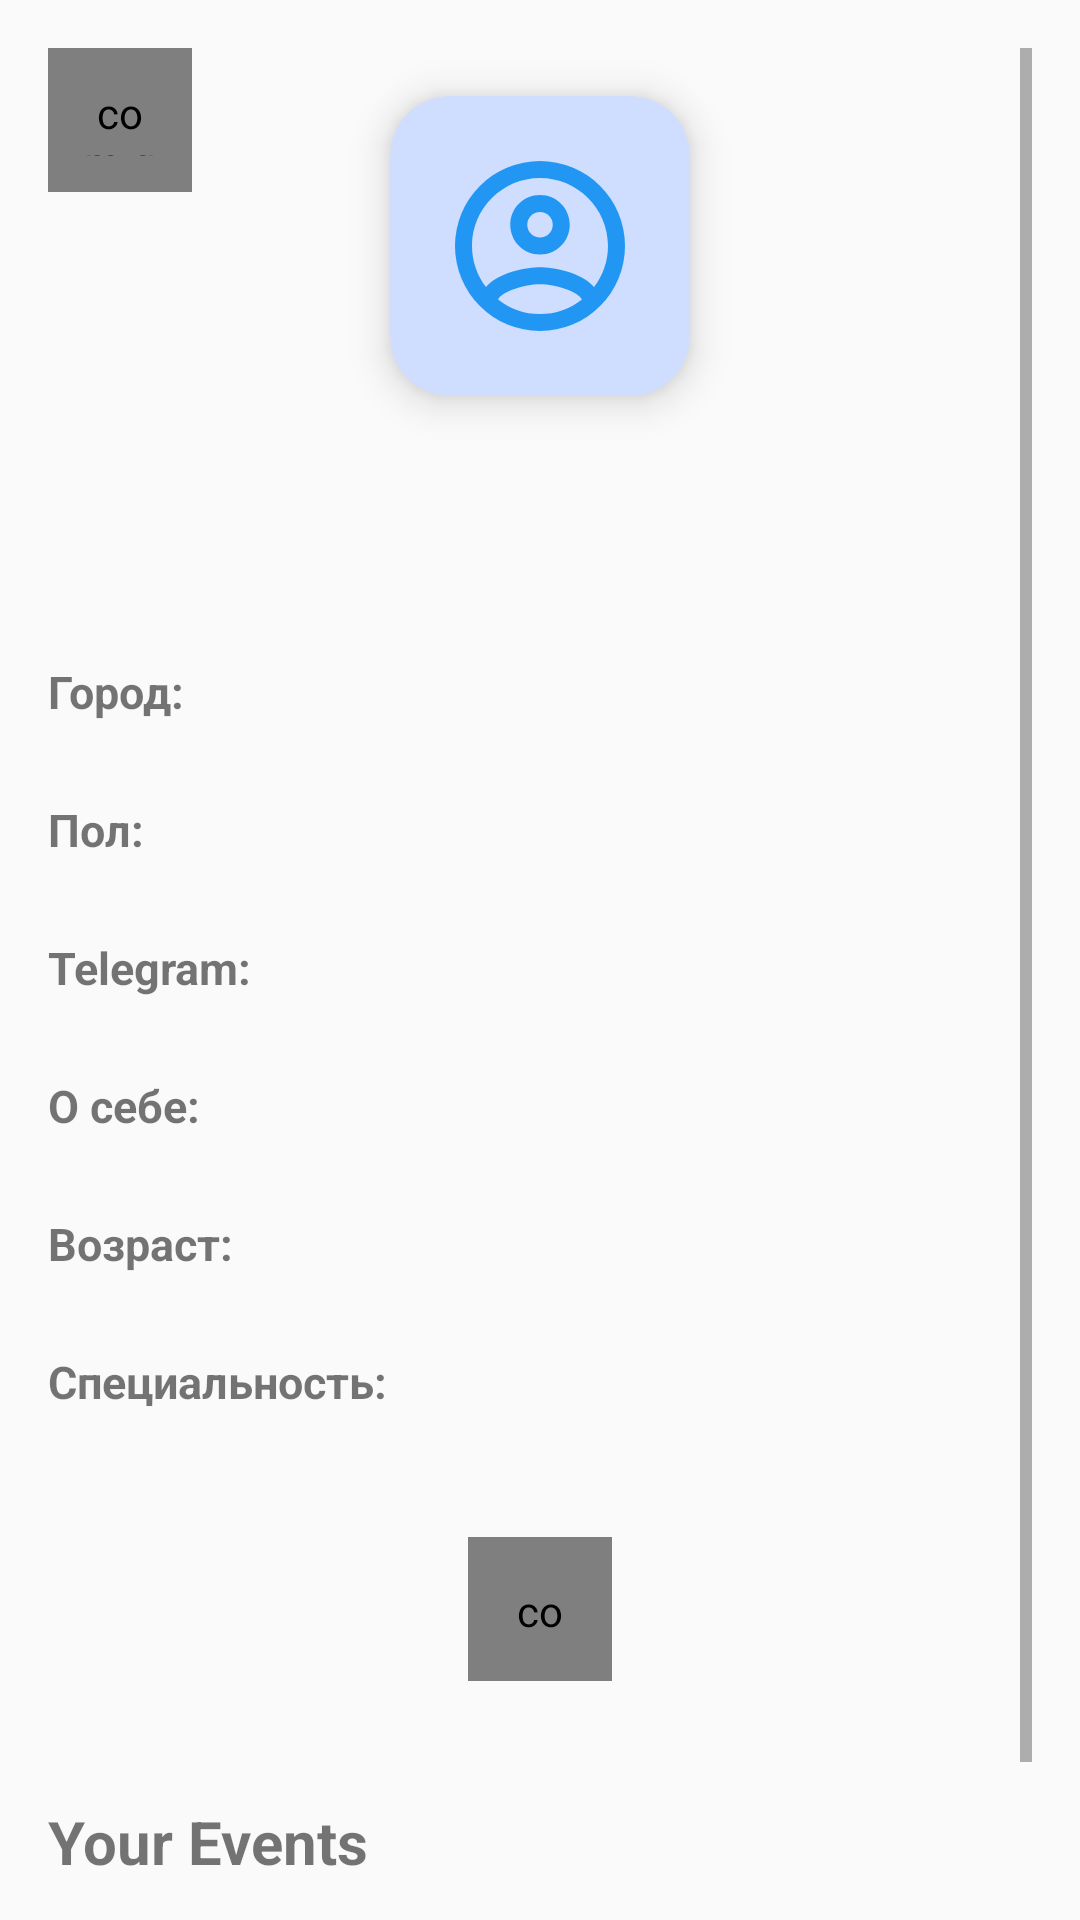

Where to tap for icons on this 1080px x 1920px app screen, as point (x, y):
Profile photo: point (540, 246)
